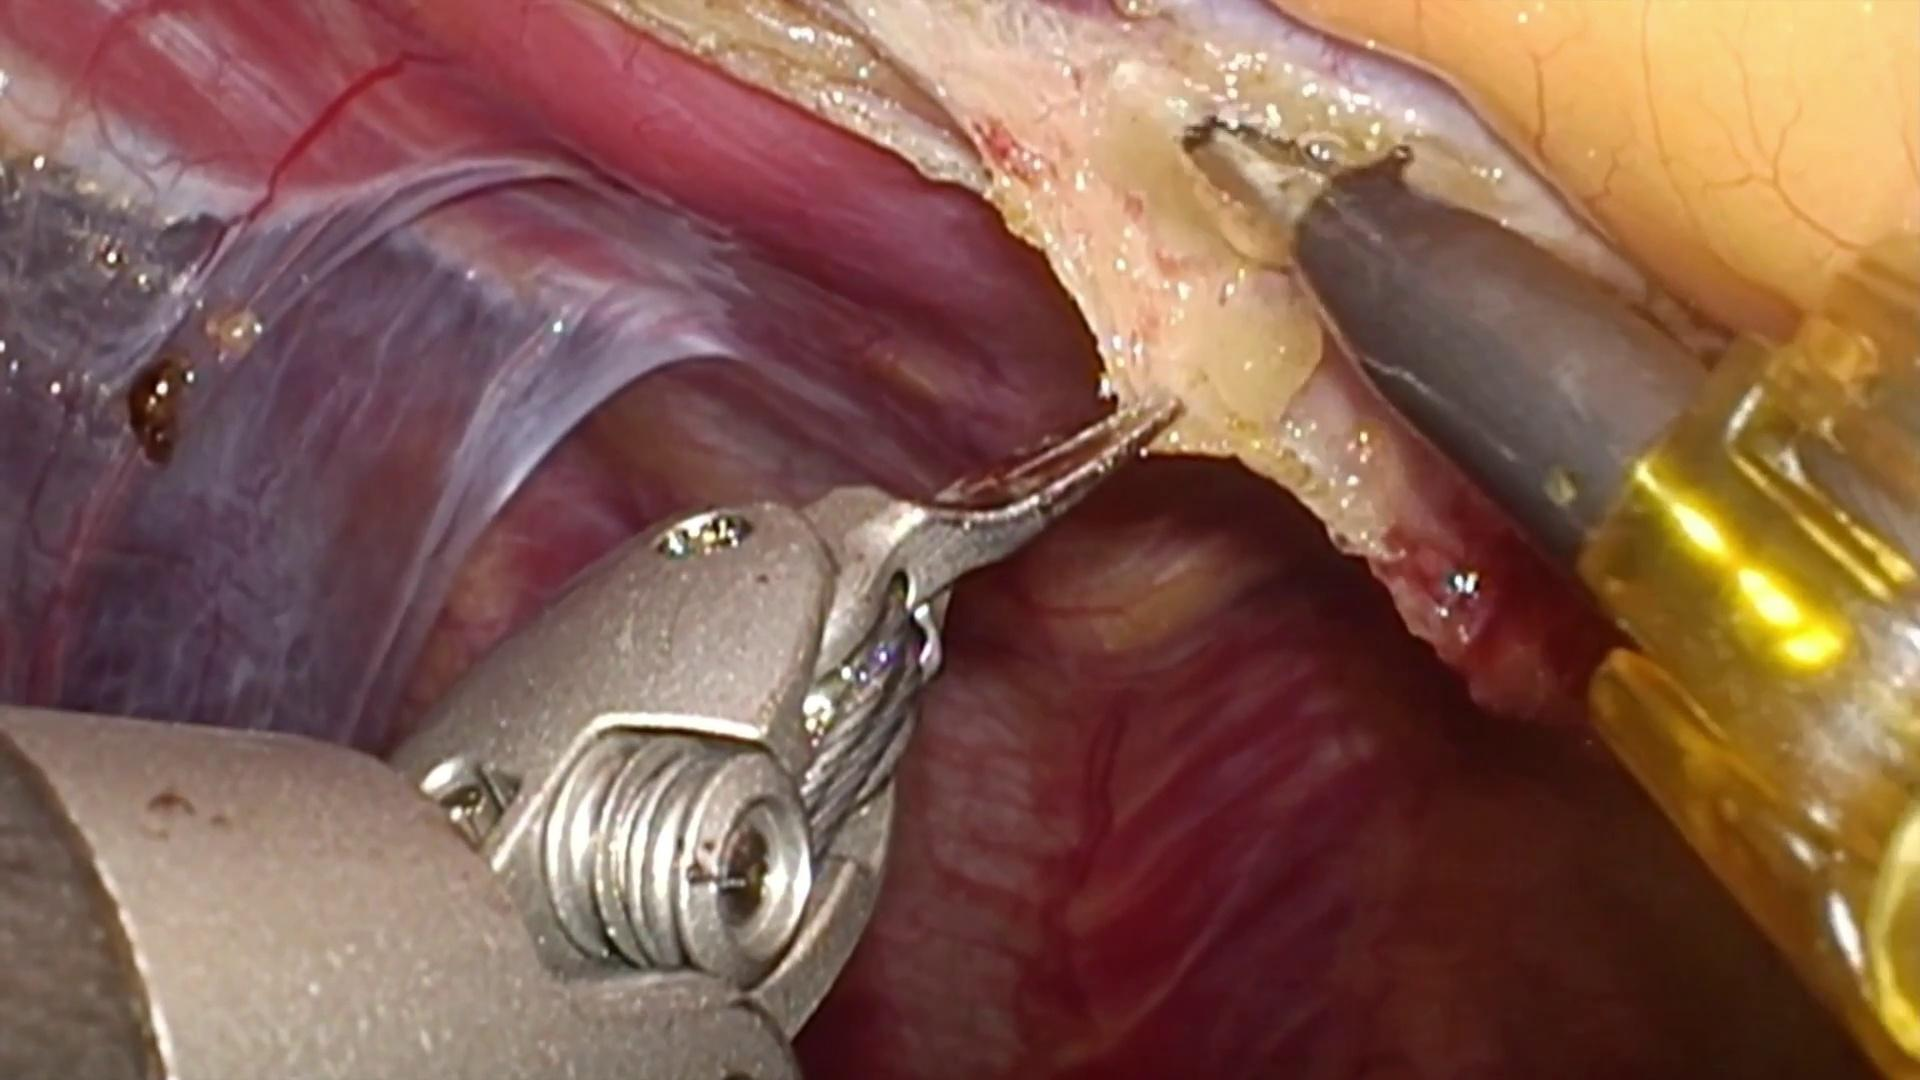Cautery_Spatula: (1182, 124, 1716, 587)
Debakey: (816, 355, 1187, 609)
